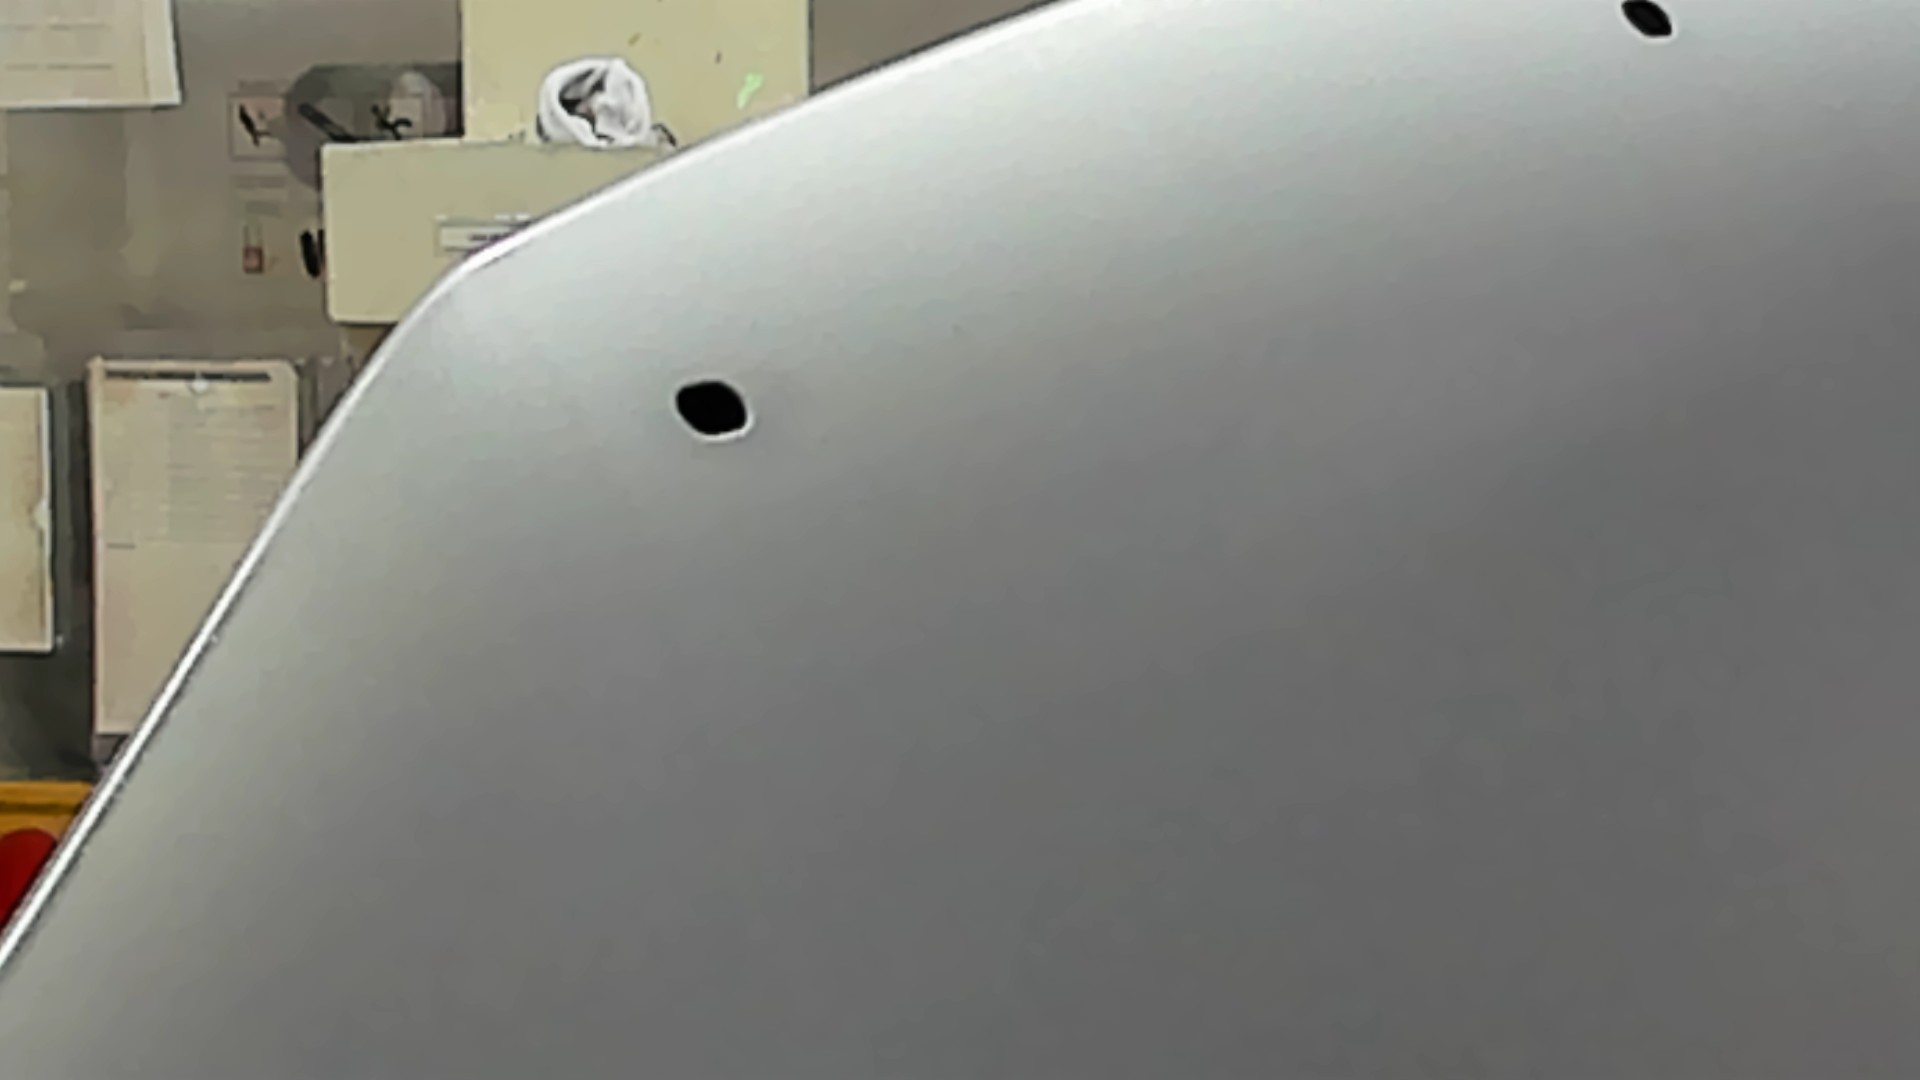chico: (665, 372, 760, 444), (1615, 1, 1677, 47)
